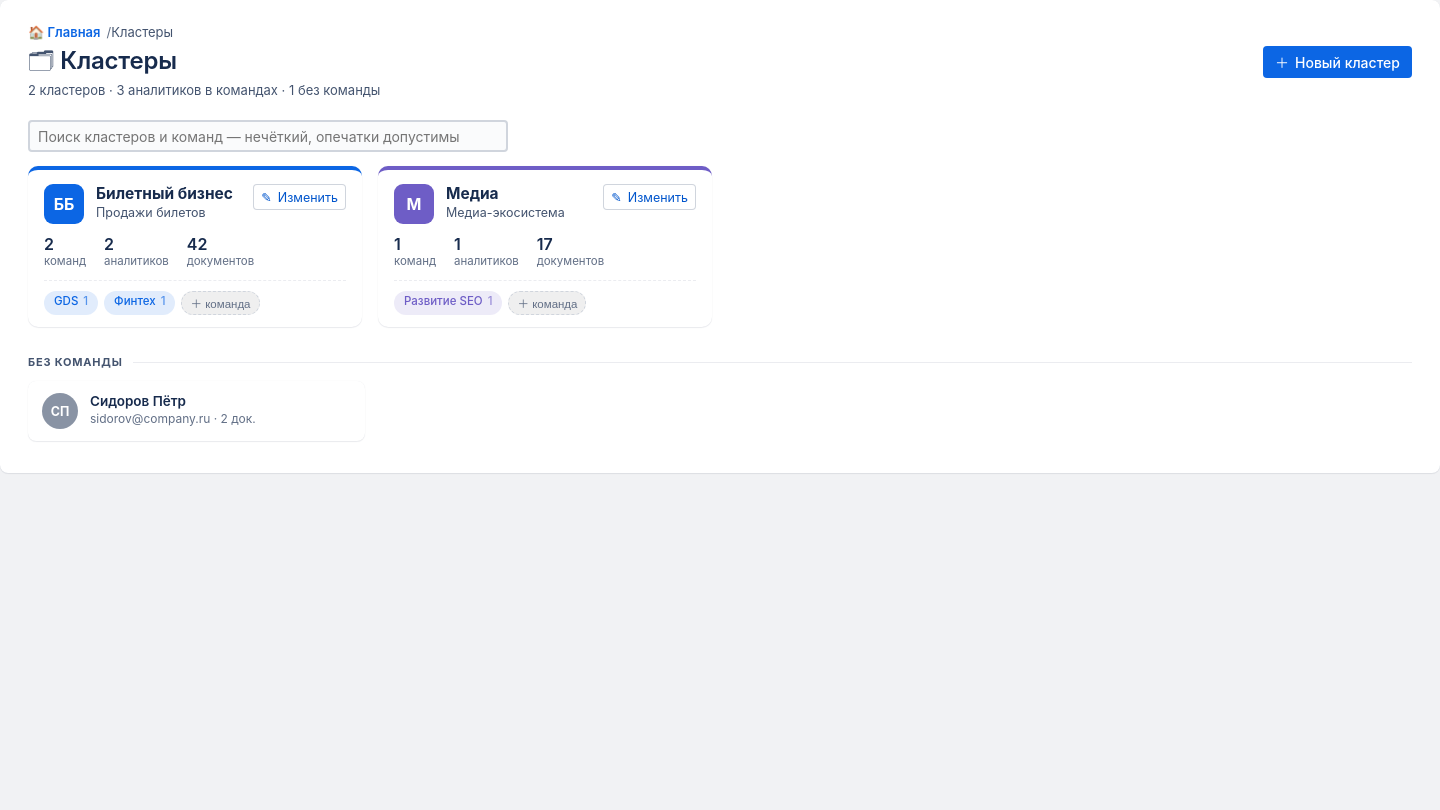
ClustersPage › opens the team-creation popup right from the cluster card
кнопка «＋ команда» на карточке — не навигация, а попап
Click the button "＋ команда" in the row of "Финтех": (220, 303) [182,291,260,315]
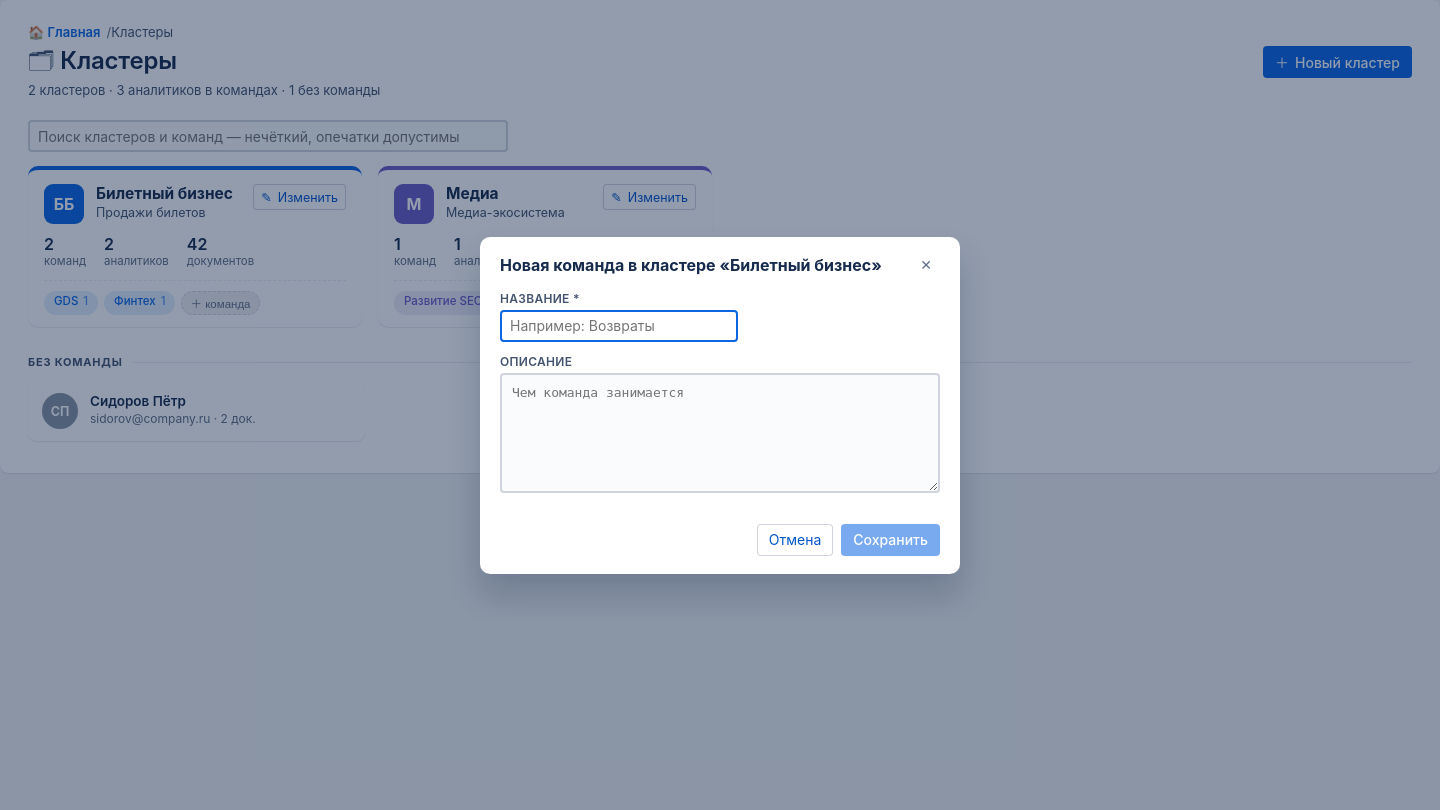
Now the dialog "команда" shows "Билетный бизнес", box [500,254,882,274]
In the field labelled "Название *": (619, 326) [500,310,738,342], type "Возвраты"
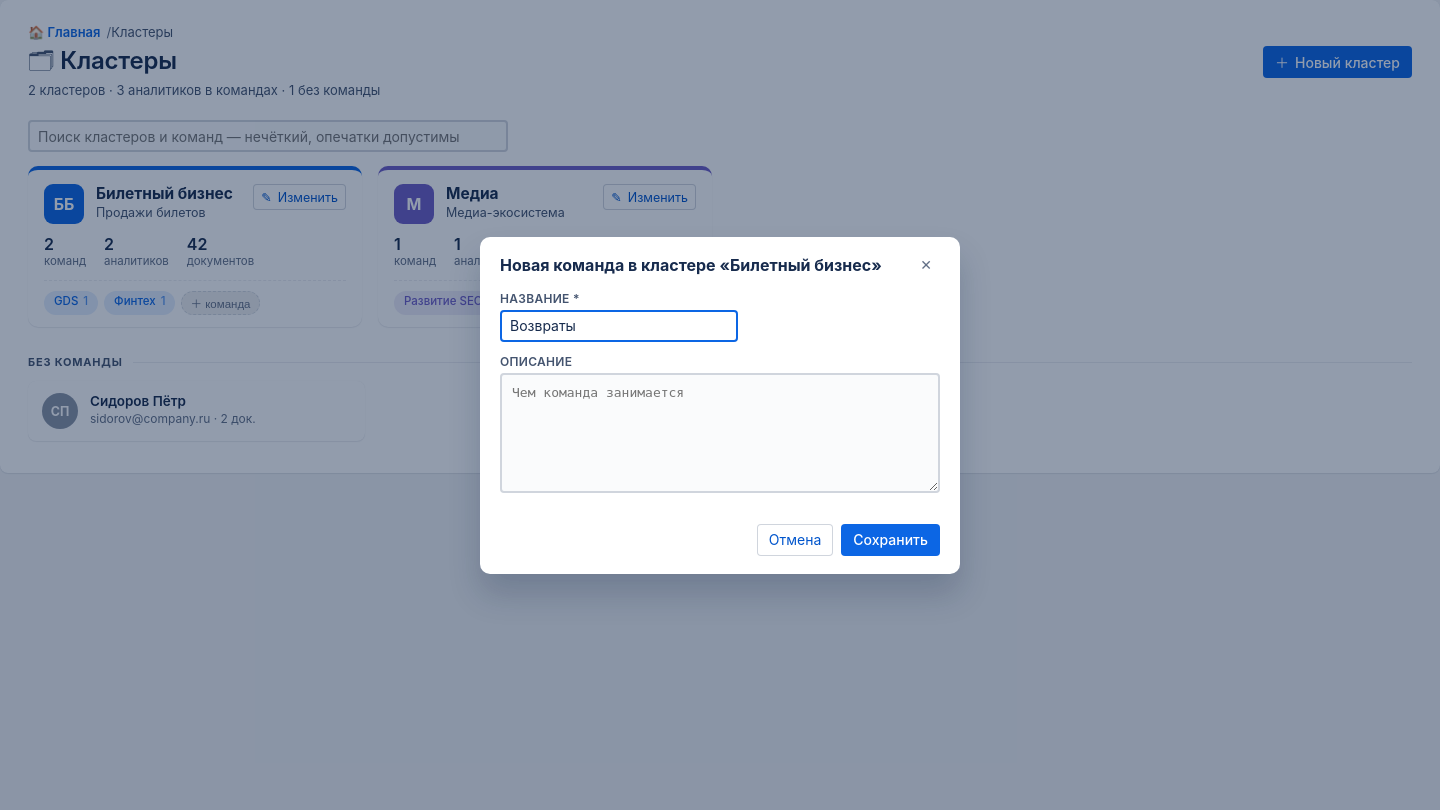
Click the button "Сохранить": (891, 540) [841,524,940,556]
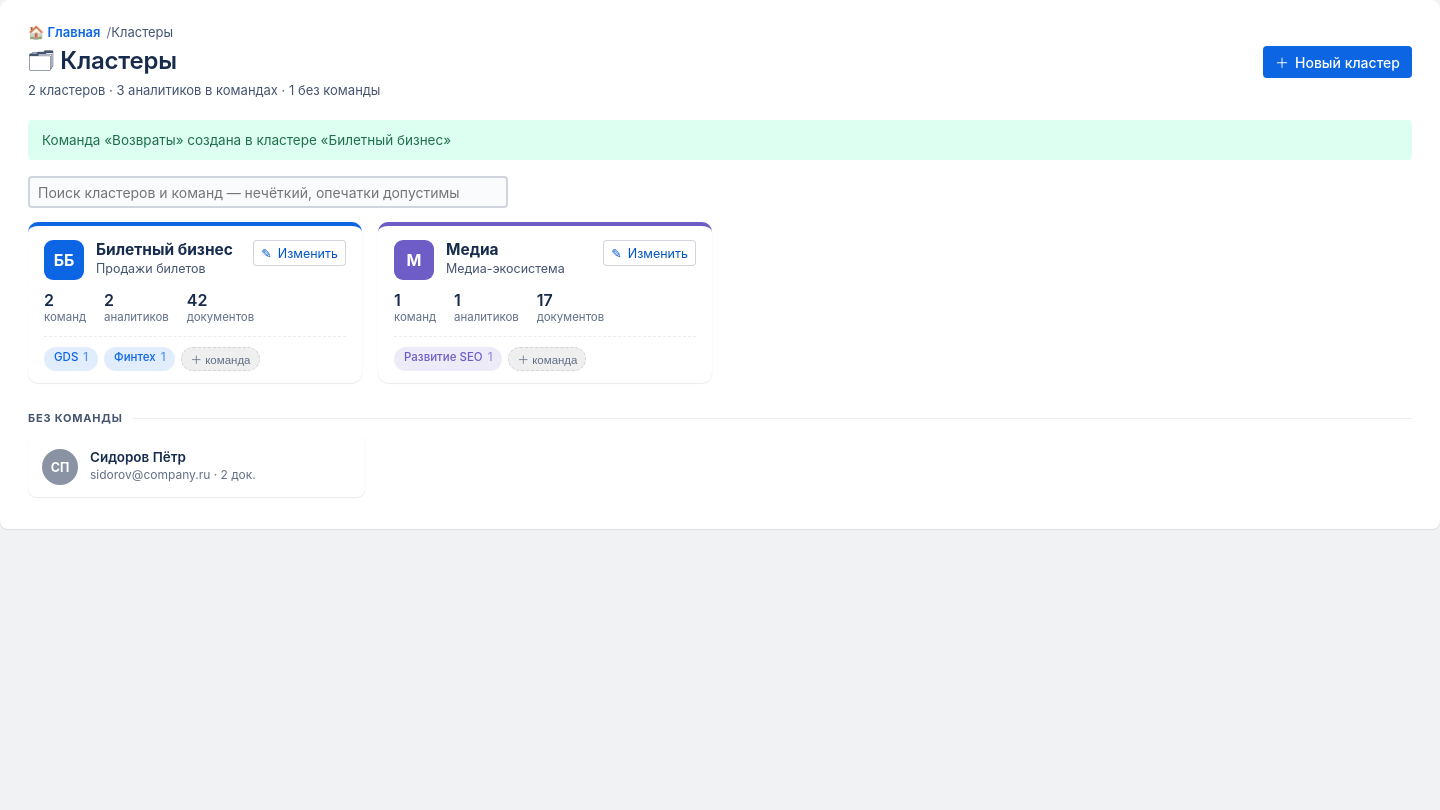
Now the text "Команда «Возвраты» создана в кластере «Билетный бизнес»" is shown, box [28,120,1412,160]
